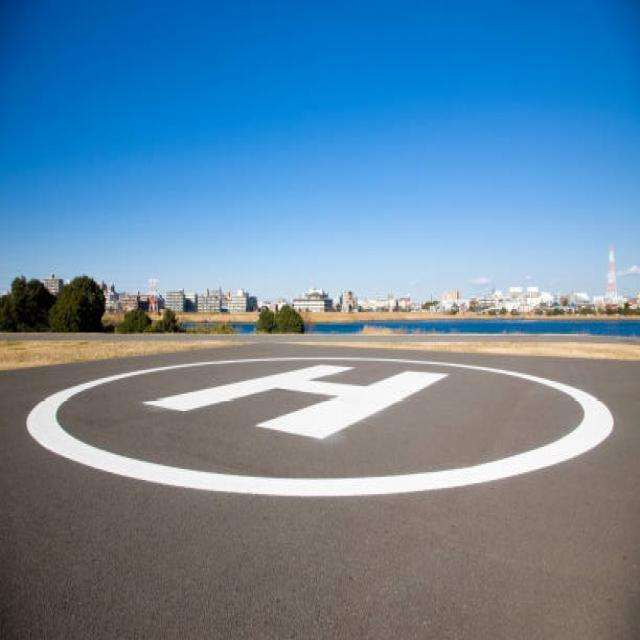helipad: (20, 348, 616, 505)
